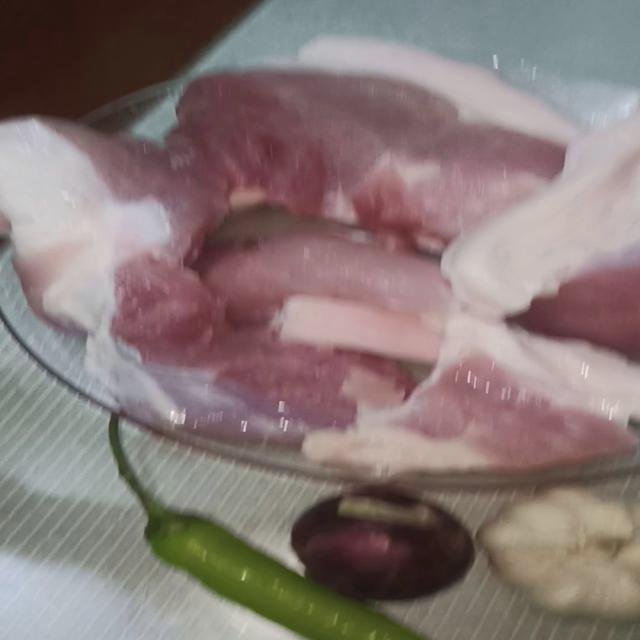chili_pepper: (96, 439, 428, 640)
garlic: (465, 475, 640, 635)
onion: (252, 489, 507, 609)
pork: (166, 45, 607, 215), (0, 86, 201, 381), (367, 320, 640, 517), (92, 262, 376, 440), (225, 230, 468, 352)
